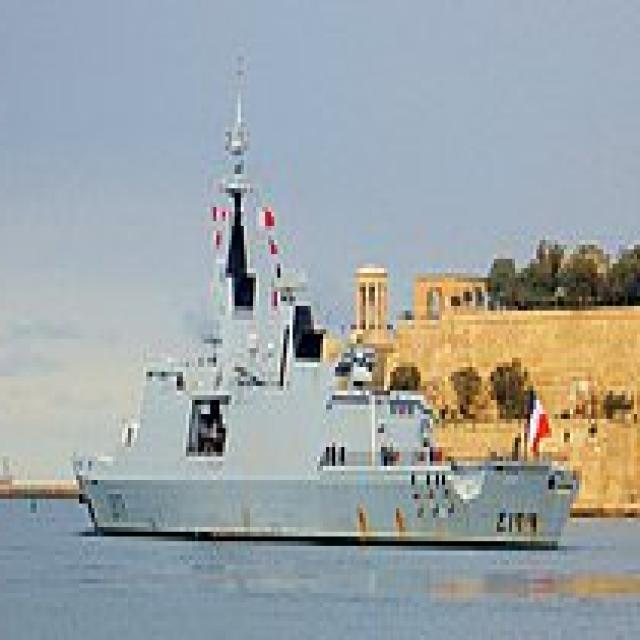Warship: (73, 42, 585, 550)
